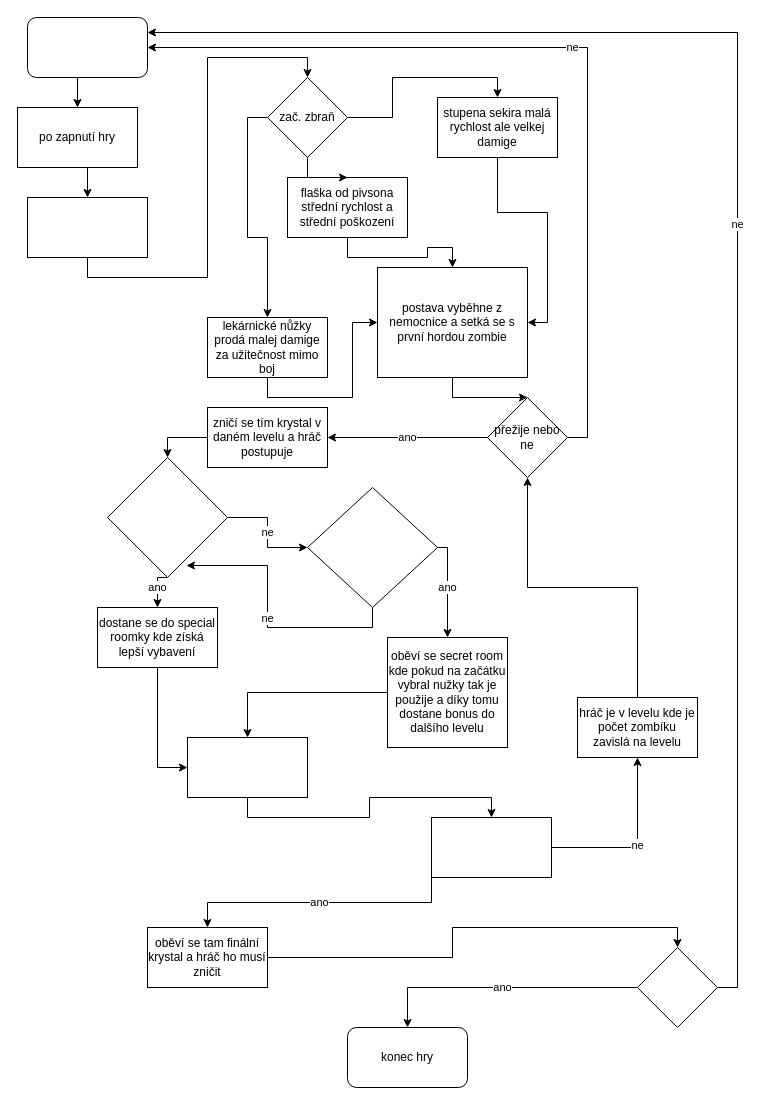
Image size: 763x1105. Some labels were removed from this diagram. Here are the shapes that lost their labels. From the top down, the centre of each, then its label:
At [87,47]: "začátek hry (singleplayer)".
At [87,227]: "player se oběví v nemocnici a dostane možnost na zač zbraň".
At [167,517]: "dokončil hráč sudý level".
At [372,547]: "dokončil hráč sudý level ?".
At [247,767]: "pokračuje dále".
At [491,847]: "je hráč ve finálním levelu".
At [677,987]: "zničí ho ?".
